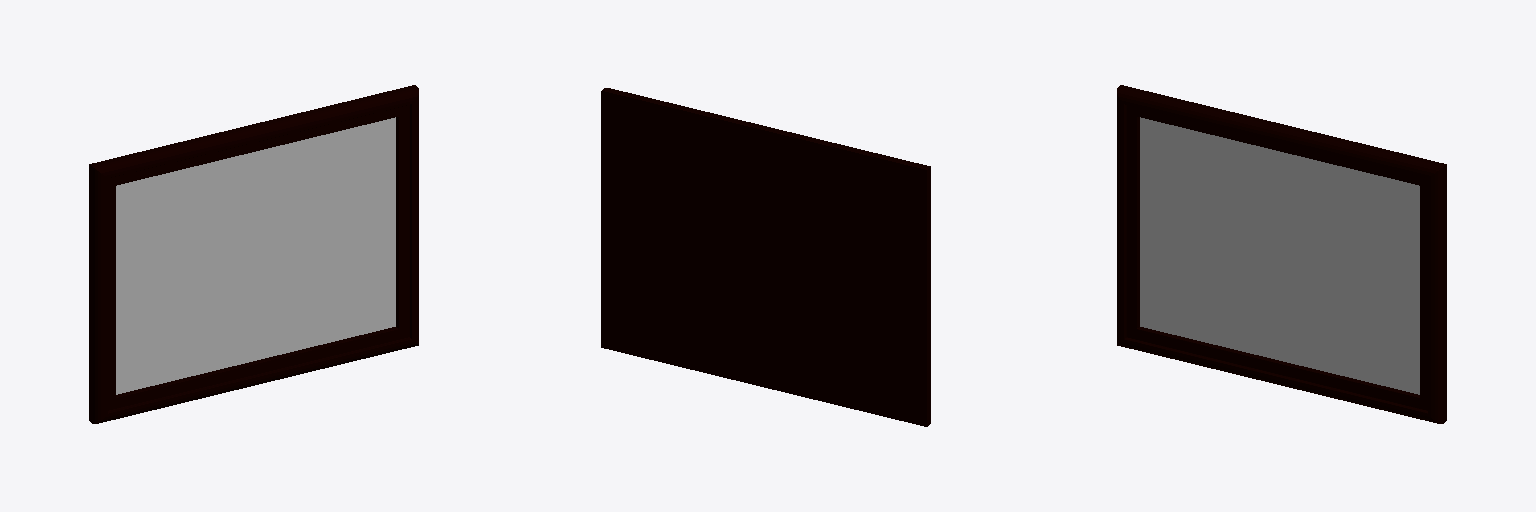
File: pintura2.obj
3 views of the same model, side by side, from view 1: azimuth 30°, elevation 25°; view 2: azimuth 150°, elevation 25°; view 3: azimuth 330°, elevation 25° (orthographic).
Visible parts, largest first — view 1: pintura_paiseje_amarillo_pintura_paisaje_mat_0, pintura_paiseje_amarillo_marco_mat_0; view 2: pintura_paiseje_amarillo_marco_mat_0; view 3: pintura_paiseje_amarillo_pintura_paisaje_mat_0, pintura_paiseje_amarillo_marco_mat_0.
Part boxes in pixels (x1,y1,x2,y2): pintura_paiseje_amarillo_pintura_paisaje_mat_0: (116, 117, 395, 394); pintura_paiseje_amarillo_marco_mat_0: (89, 85, 418, 423); pintura_paiseje_amarillo_marco_mat_0: (601, 88, 930, 426); pintura_paiseje_amarillo_pintura_paisaje_mat_0: (1140, 117, 1419, 394); pintura_paiseje_amarillo_marco_mat_0: (1117, 85, 1446, 423).
Size of the model in its own units: 2.52 by 1.9 by 0.1056.